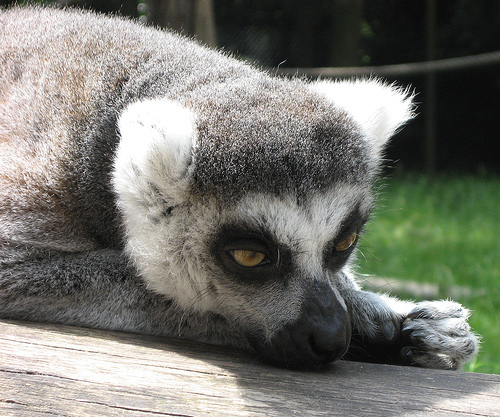cat: (0, 5, 477, 374)
